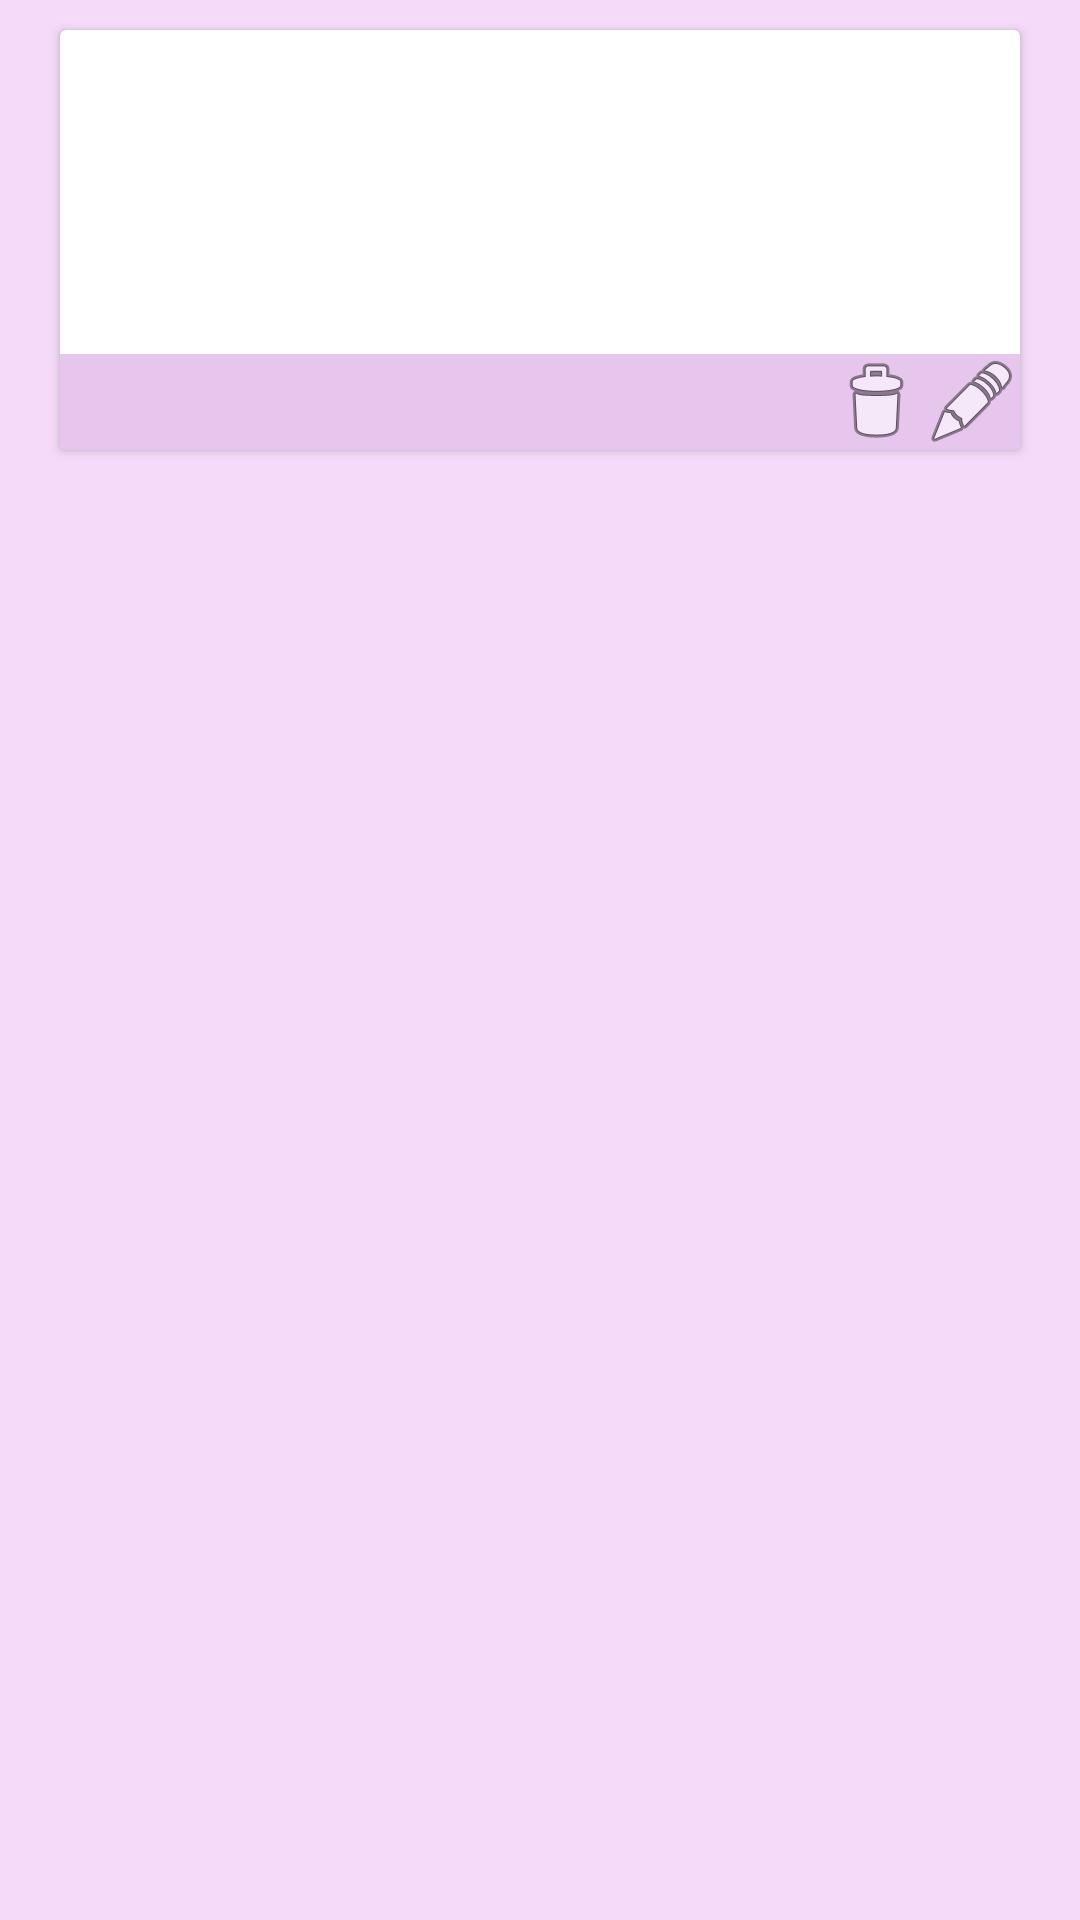

Screen size 1080w x 1920h. Icon name, then its center in pixels as (x=x, y=y):
delete: (x=876, y=400)
edit: (x=971, y=401)
